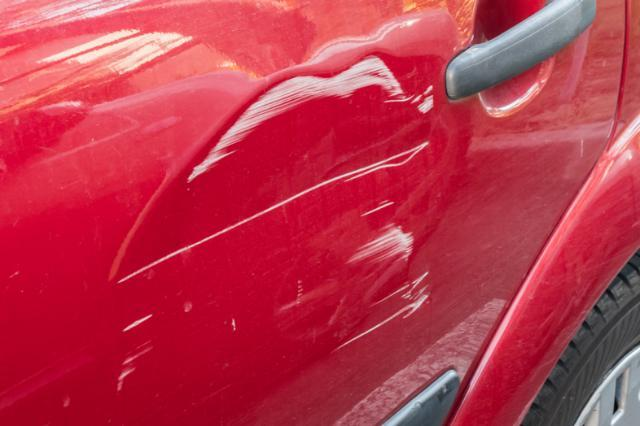Door: (6, 4, 482, 417)
